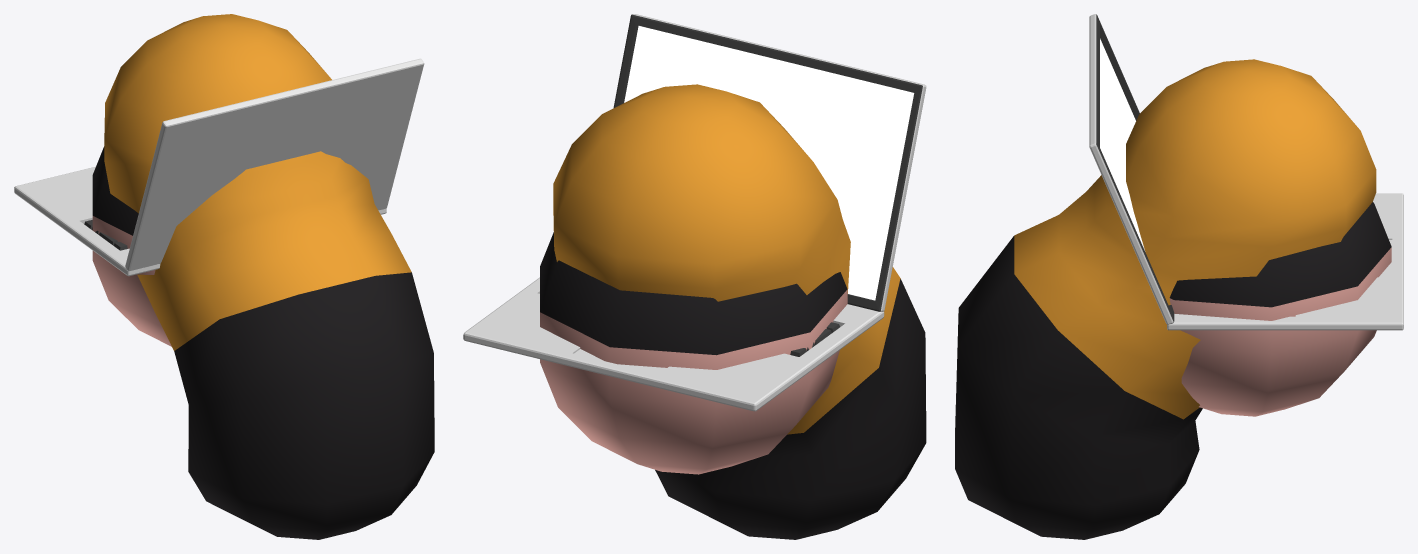
File: character_laptop1.glb
The picture shows the model from 3 angles, left to right: view 1: azimuth 30°, elevation 25°; view 2: azimuth 150°, elevation 25°; view 3: azimuth 270°, elevation 25°; orthographic projection. The views are drawn at different scales.
Visible parts, largest first — view 1: body, laptop, head; view 2: body, laptop, head; view 3: body, head, laptop.
Boxes of the visible parts, box(x1,y1,x2,y2) form: body: box(104, 14, 434, 539); laptop: box(14, 58, 424, 275); head: box(92, 146, 171, 346); body: box(553, 84, 926, 539); laptop: box(463, 14, 926, 411); head: box(540, 232, 847, 474); body: box(955, 59, 1376, 539); head: box(1169, 202, 1391, 416); laptop: box(1089, 14, 1403, 330).
Size of the model in its own units: 1.79 by 2.87 by 2.6.
